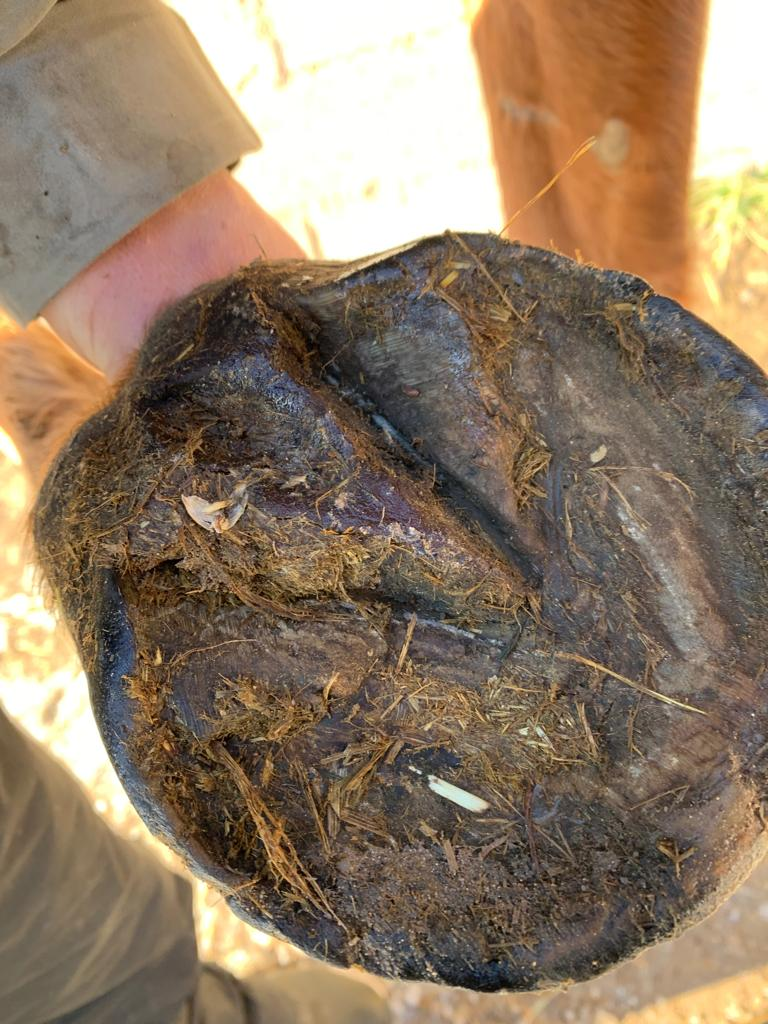horsesole: (90, 233, 768, 996)
